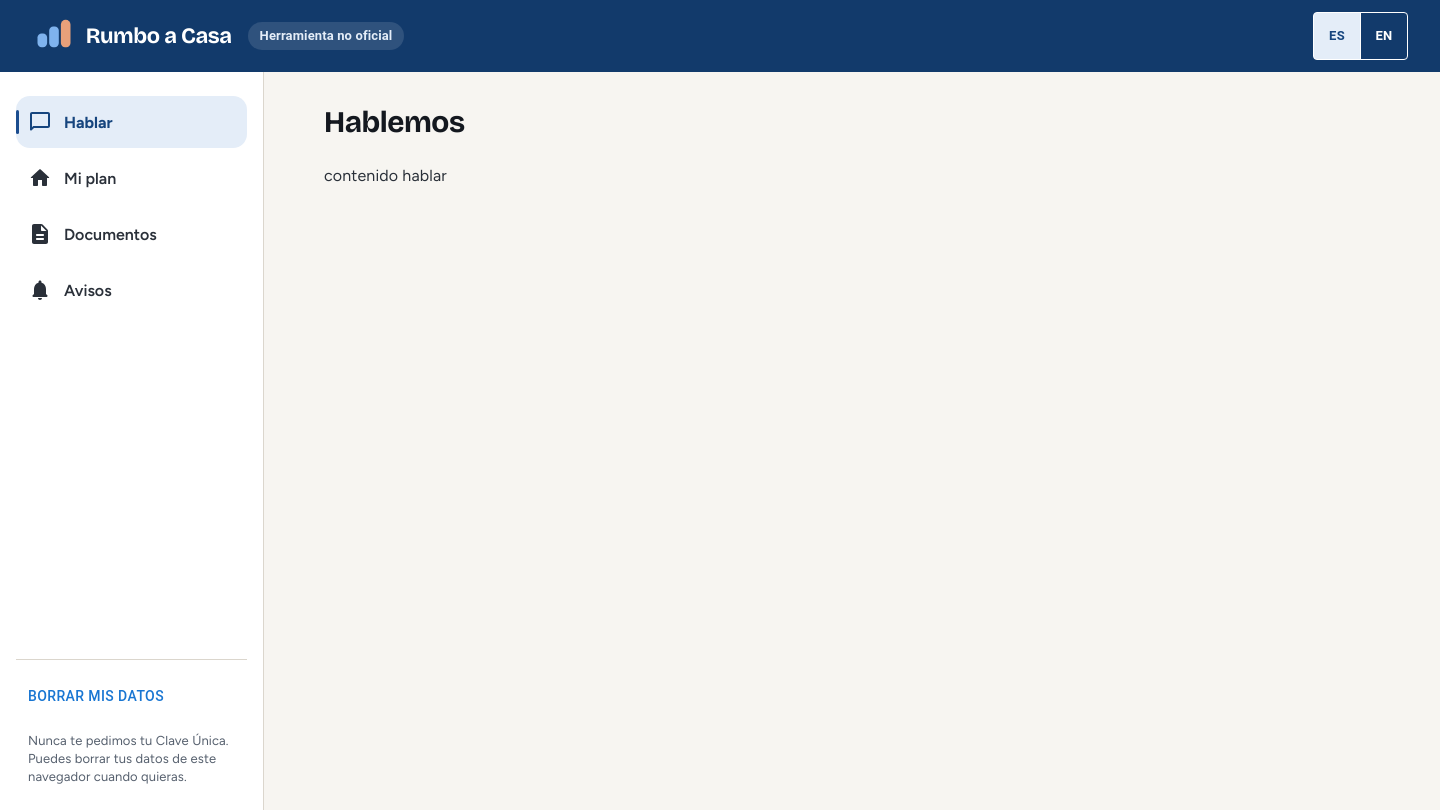
Test: AppShell › navega al tocar un destino de la barra inferior
Click the button "Documentos" at coordinates (132, 234), box top-left (16, 208), bottom-right (247, 260)
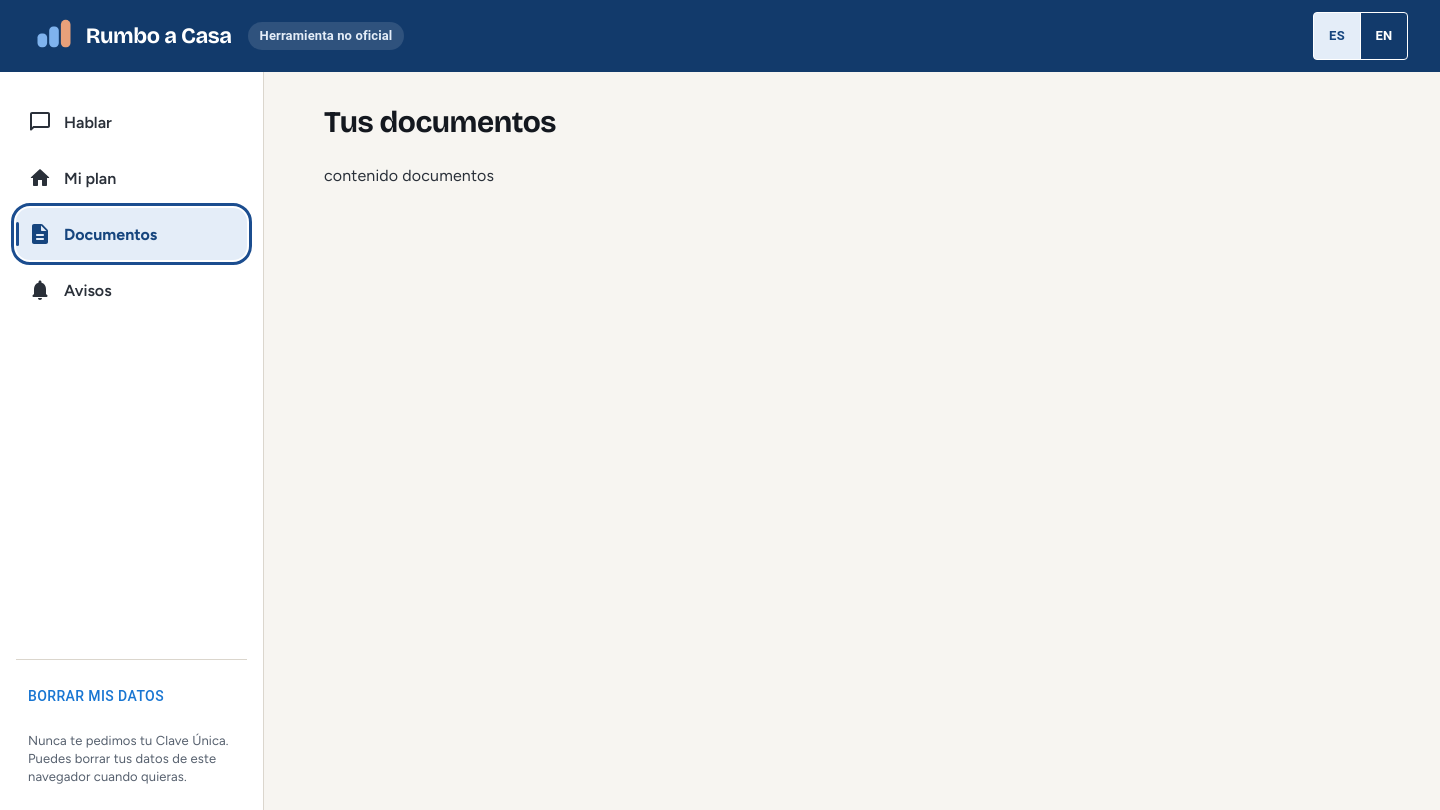
Now the text "contenido documentos" is shown, box top-left (324, 166), bottom-right (494, 185)
